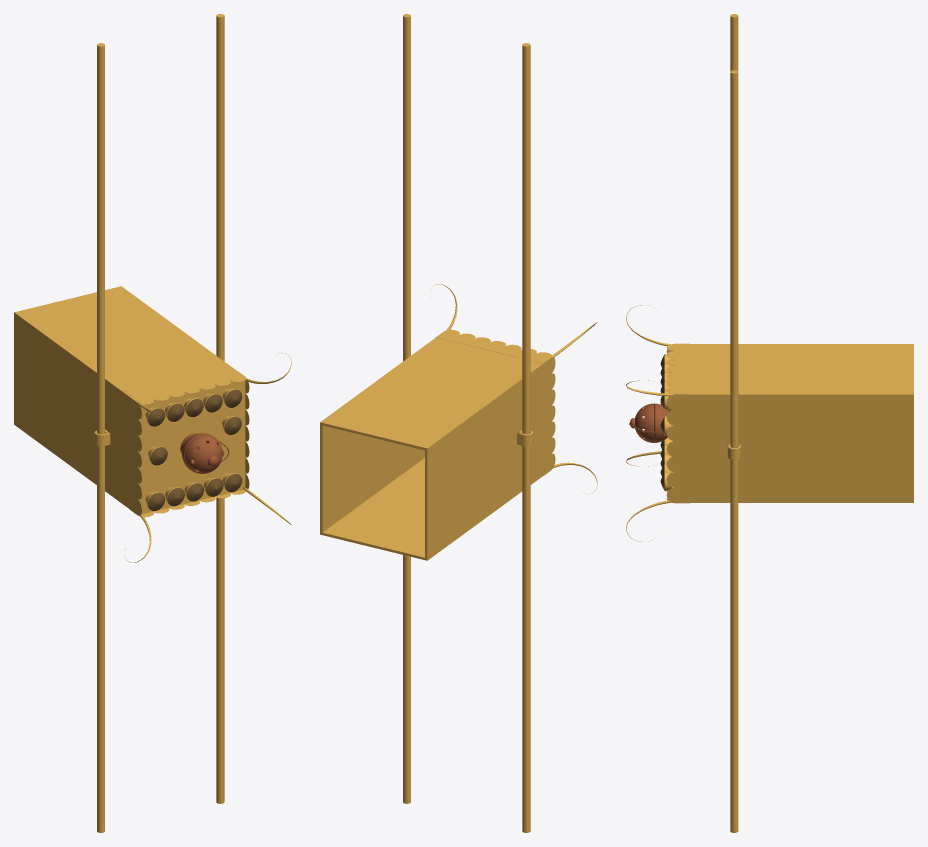
File: tabernacle-incense-altar-detail.optimized.glb
3 renders of one model, left to right at view 1: azimuth 30°, elevation 25°; view 2: azimuth 150°, elevation 25°; view 3: azimuth 270°, elevation 25°, orthographic. The views are drawn at different scales.
Parts seen in each view (by area): view 1: Crown; view 2: Crown; view 3: Crown.
Part boxes in pixels (<box>): Crown: <box>14,14,291,832</box>; Crown: <box>320,14,597,832</box>; Crown: <box>626,14,913,832</box>.
Size of the model in its own units: 1.49 by 7 by 2.4.
